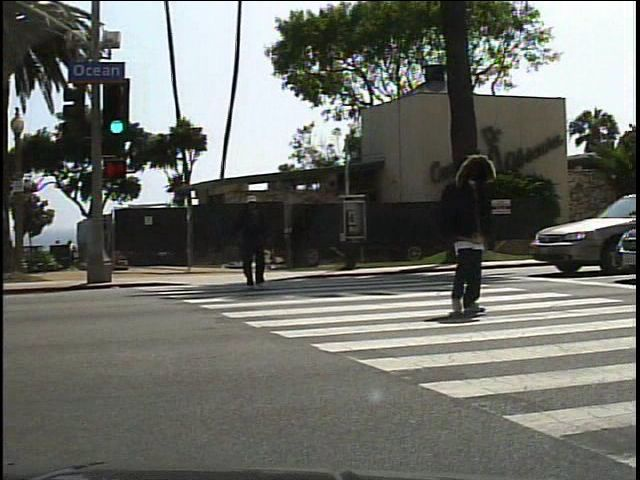person: (426, 151, 512, 322), (236, 192, 273, 297)
